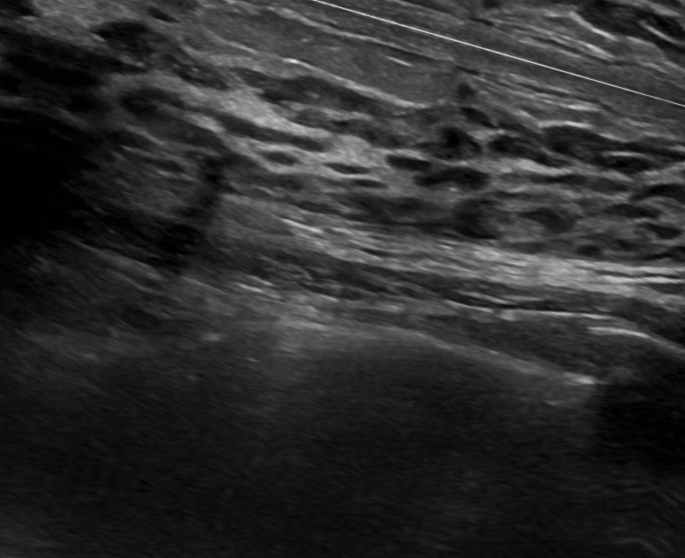Normal: (5, 19, 685, 529)
